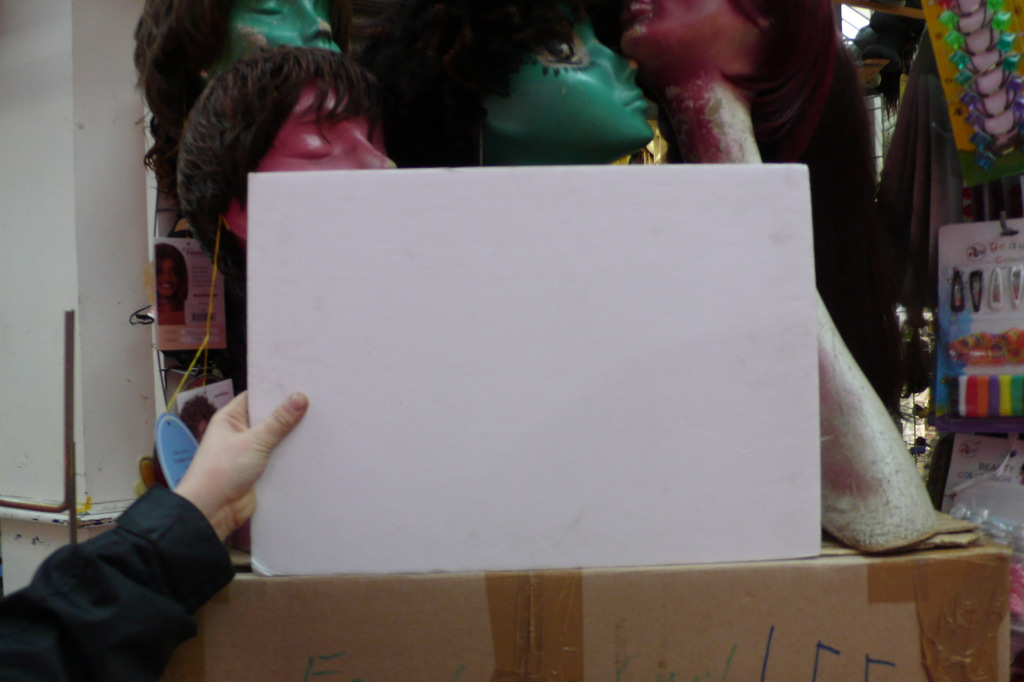Human_hand: (144, 393, 303, 548)
